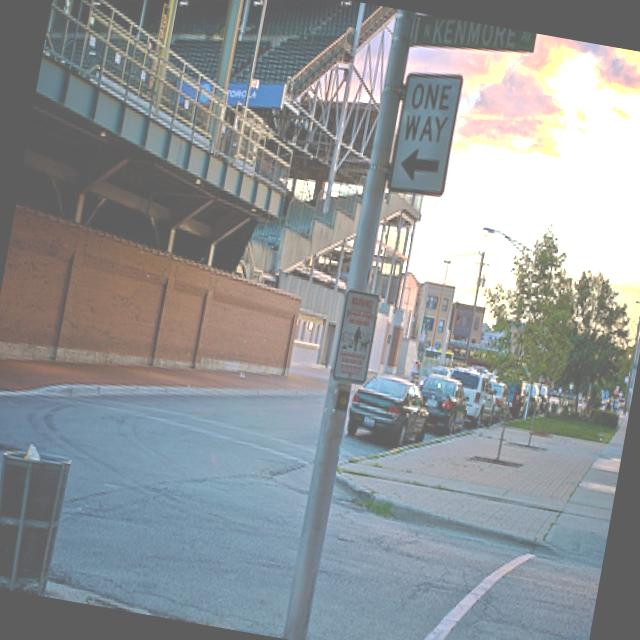Vehicle: (343, 367, 436, 451), (440, 364, 500, 432), (411, 371, 472, 437), (516, 378, 545, 419), (486, 384, 508, 424), (535, 382, 551, 416)
